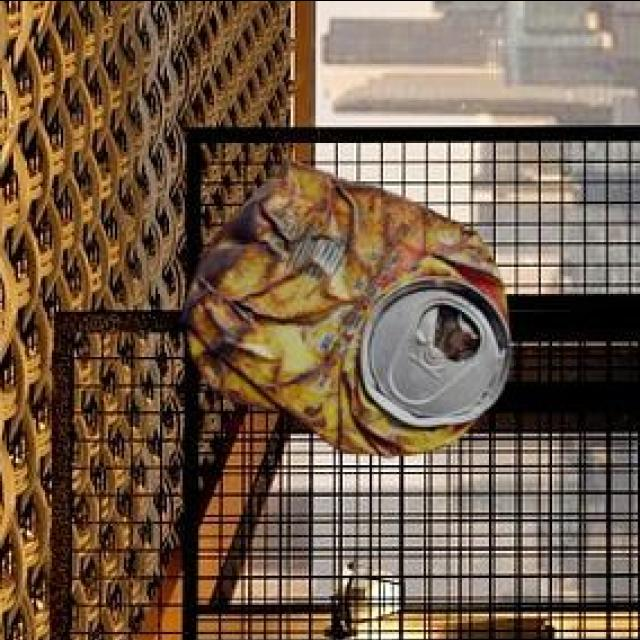logam: (179, 157, 506, 454)
